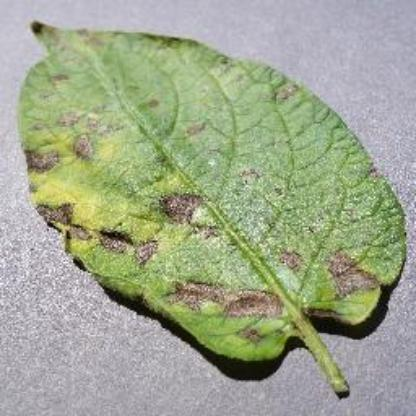Early-Blight: (15, 10, 410, 398)
